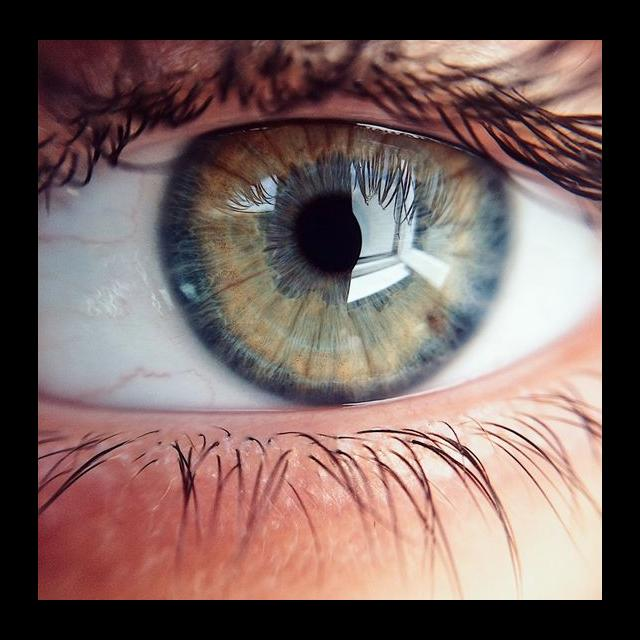eye: (38, 112, 602, 412)
iris: (164, 121, 517, 406)
